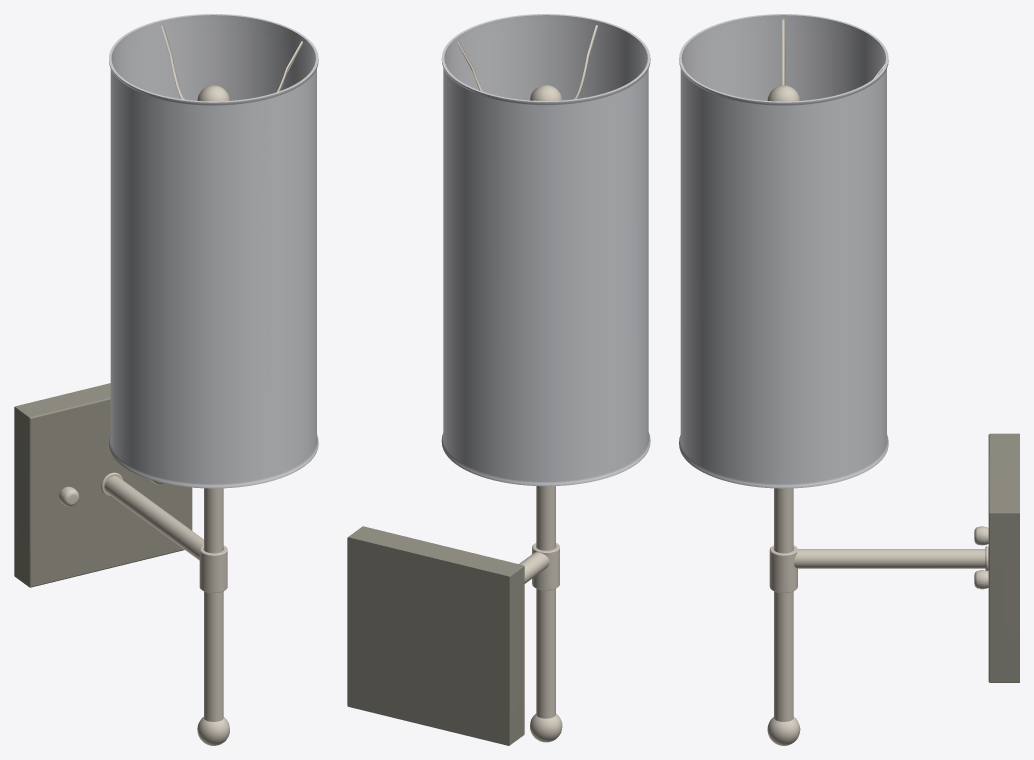
The model's file is abo-B0824FLNHN.glb.
The picture shows the model from 3 angles, left to right: view 1: azimuth 30°, elevation 25°; view 2: azimuth 150°, elevation 25°; view 3: azimuth 270°, elevation 25°; orthographic projection.
Size of the model in its own units: 0.128 by 0.462 by 0.208.
Materials: 1 (1 with a texture image).
